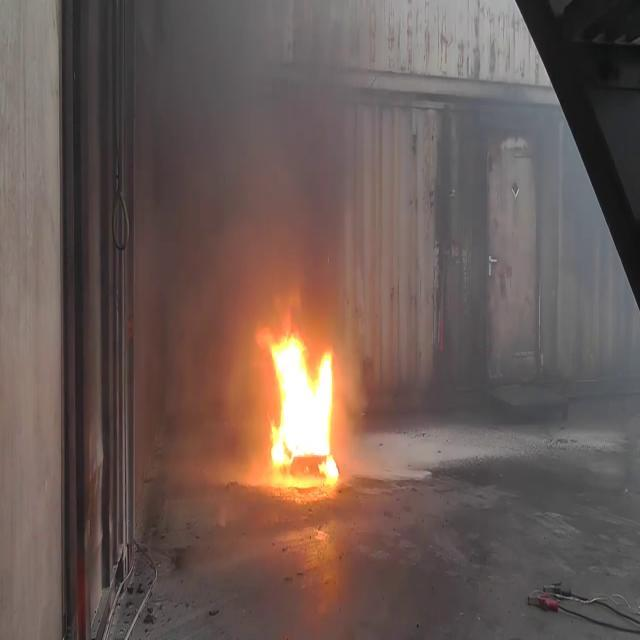Fire: (259, 323, 343, 484)
Smoke: (136, 2, 372, 340)
